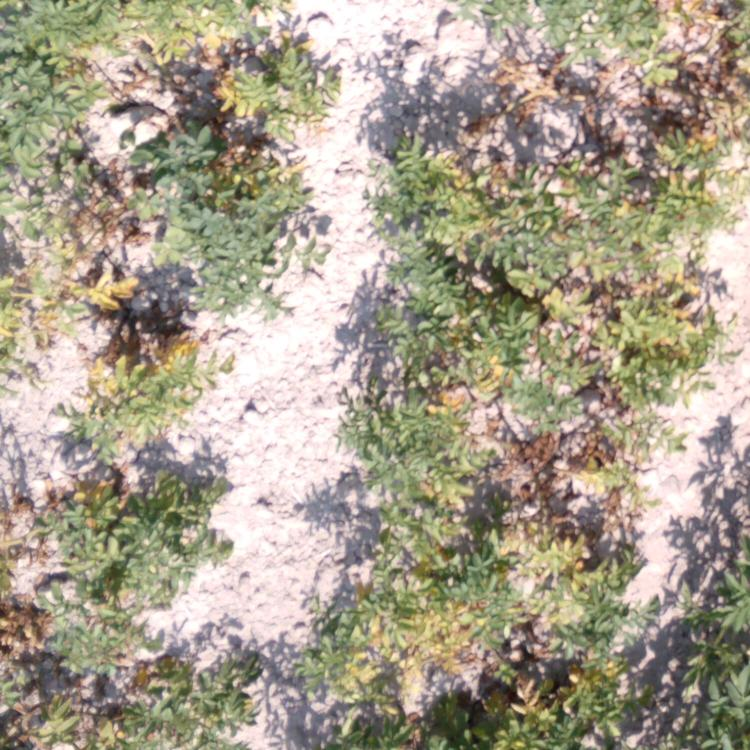healthy: (154, 221, 308, 325), (686, 521, 750, 750), (486, 1, 639, 53)
stressed: (341, 375, 663, 531), (367, 266, 721, 379), (334, 528, 641, 658), (1, 474, 230, 597), (109, 1, 322, 123), (389, 139, 567, 270), (1, 586, 139, 750), (1, 1, 106, 186), (1, 194, 139, 330), (576, 157, 750, 264), (447, 660, 655, 747), (137, 129, 312, 224), (70, 329, 201, 449), (654, 5, 750, 158), (296, 665, 432, 750), (142, 656, 266, 747)
